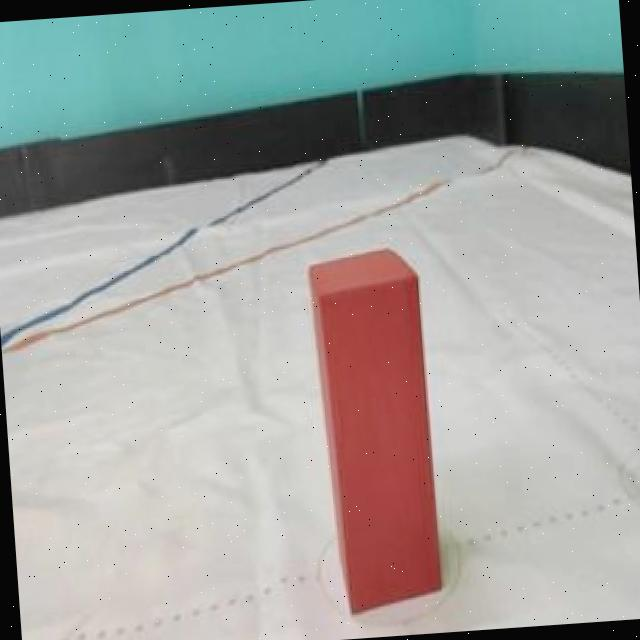redbox: (308, 243, 444, 614)
